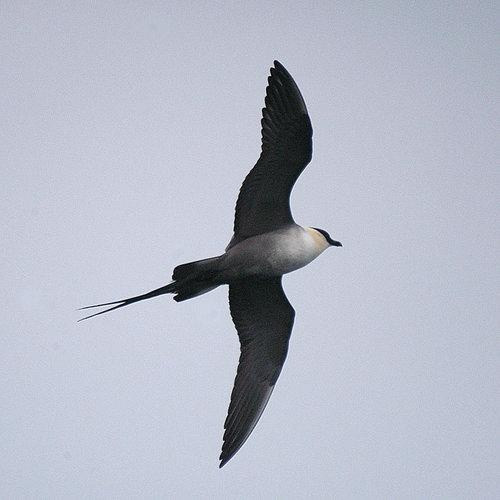bird: (77, 54, 344, 471)
